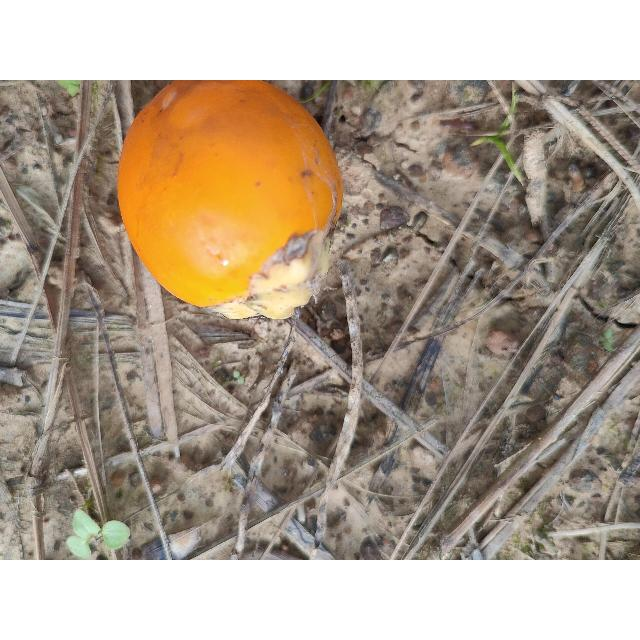good: (116, 80, 346, 318)
